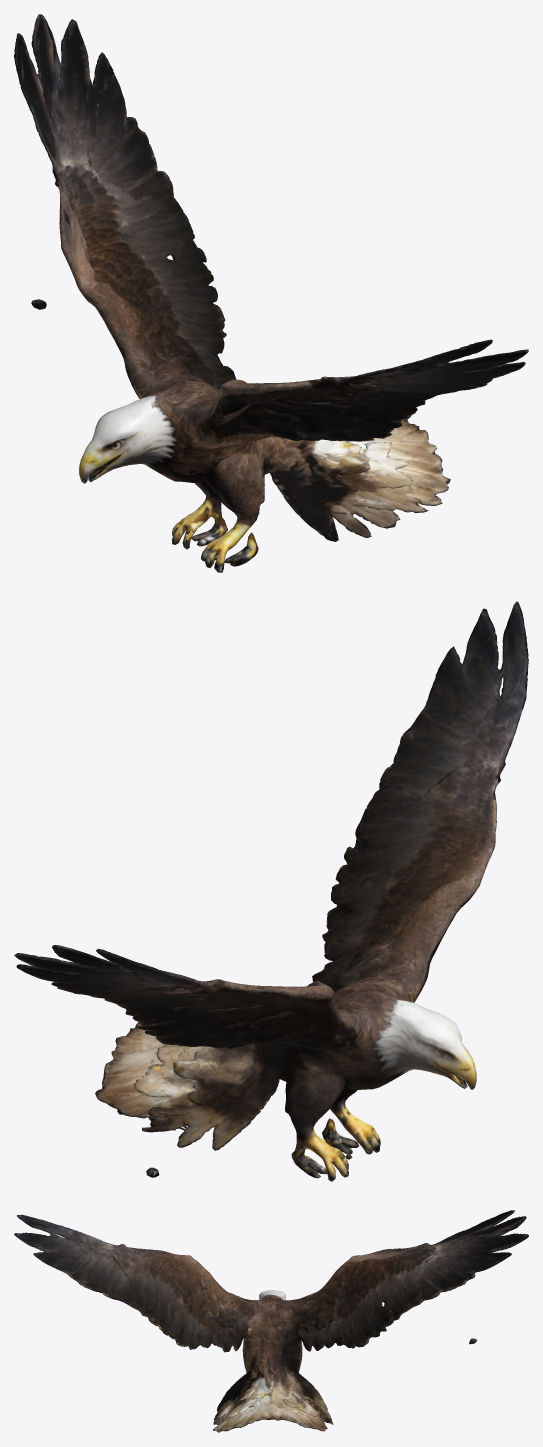
The model's file is refined_eagle.glb.
3 views of the same model, one above another, from view 1: azimuth 30°, elevation 25°; view 2: azimuth 150°, elevation 25°; view 3: azimuth 270°, elevation 25° (orthographic). The views are drawn at different scales.
Size of the model in its own units: 0.8637 by 0.8991 by 2.02.
1 material, 1 textured.
